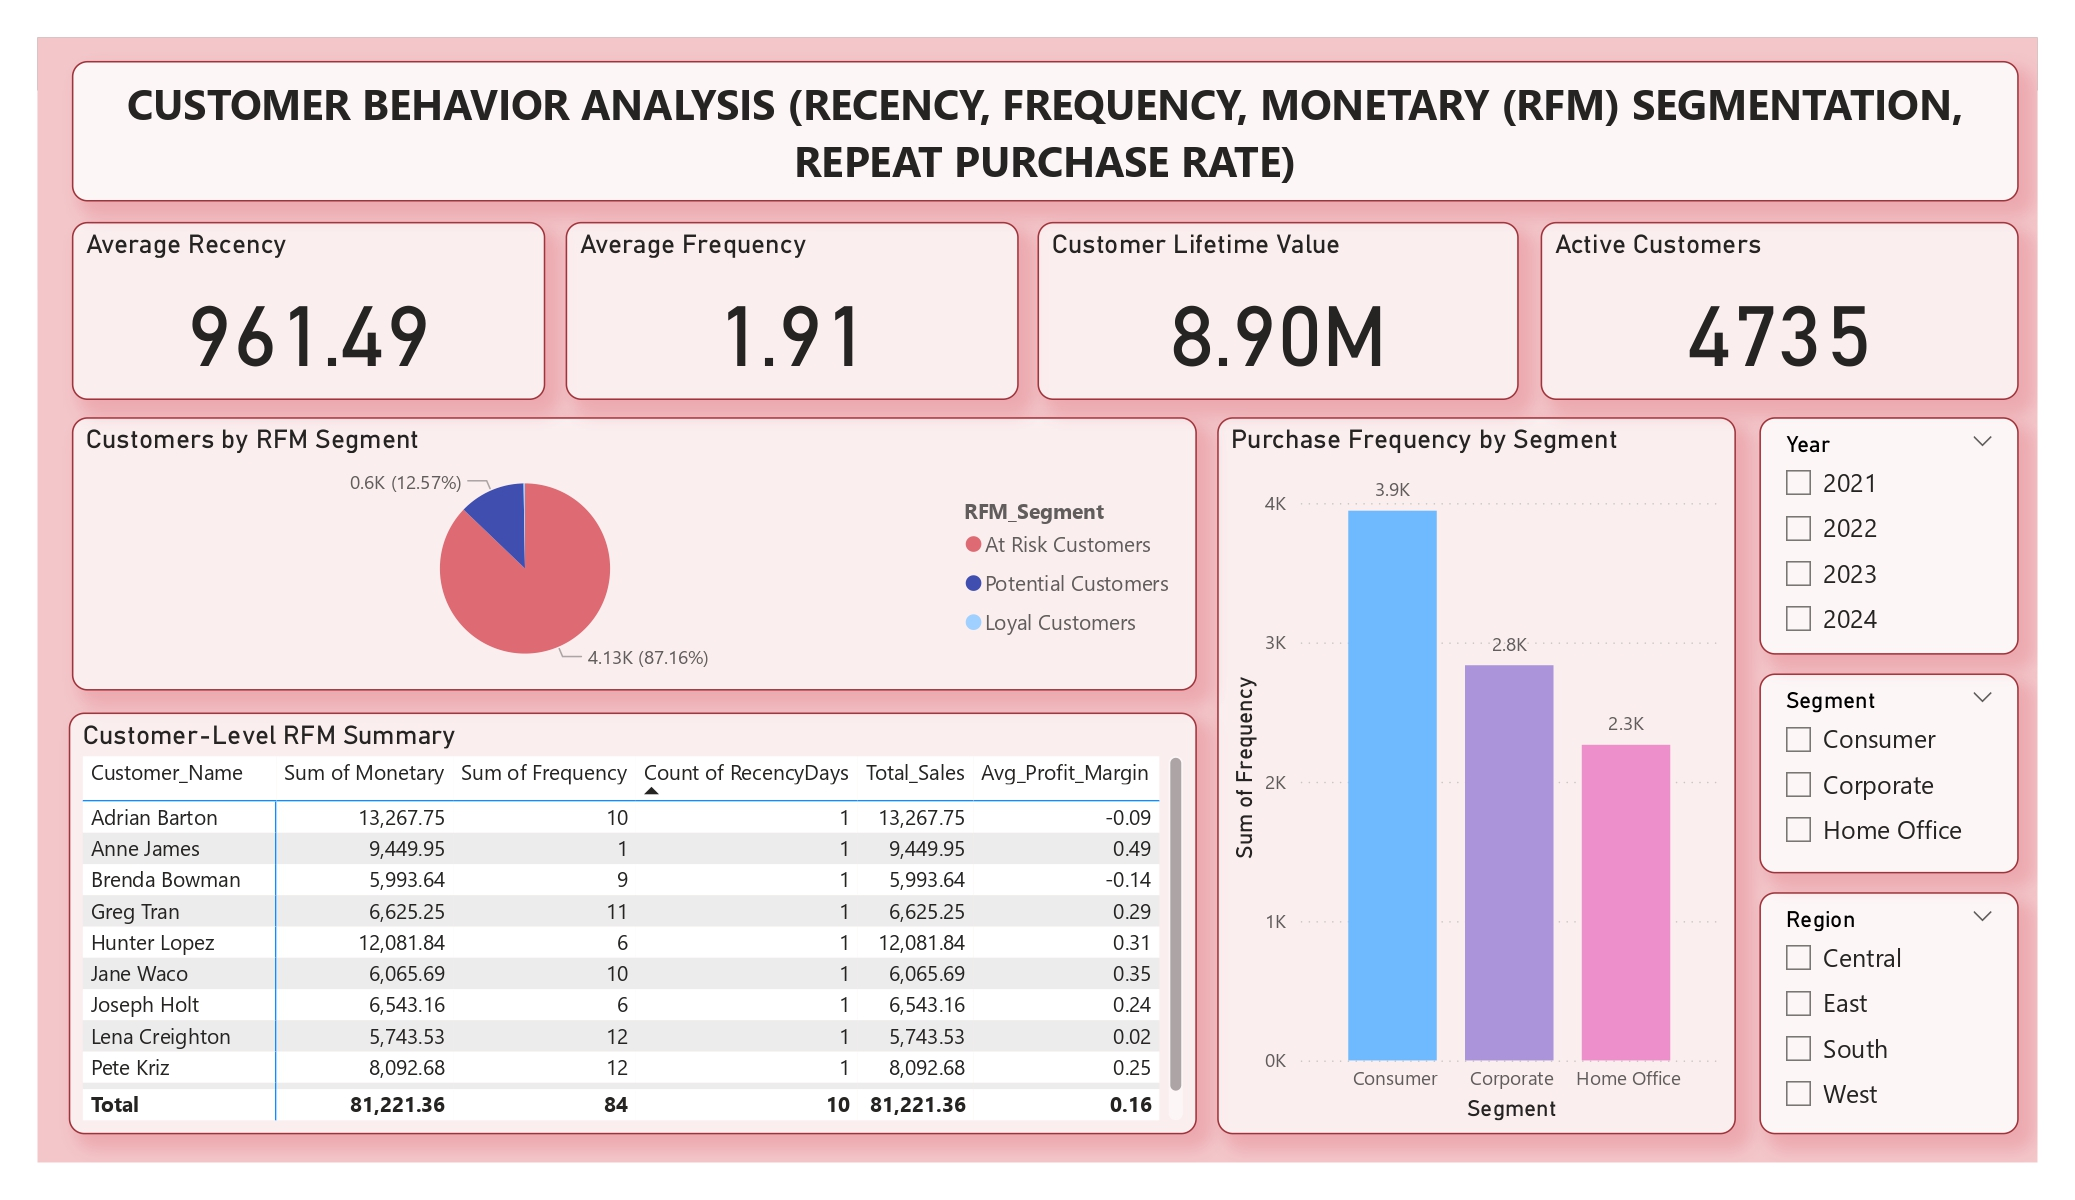

What the dashboard file says about the page in this screenshot:
{"tool":"powerbi","page":{"name":"Customer Behavior Analysis","canvas":[1280,720],"ordinal":1},"visuals":[{"type":"pivotTable","title":"Customer-Level RFM Summary","fields":{"Rows":["Customer.Customer_Name"],"Values":["Sum(Customer.Monetary)","Sum(Customer.Frequency)","CountNonNull(Customer.RecencyDays)","Sales.Total_Sales","Sales.Avg_Profit_Margin"]},"box":[20,431.7,721.7,270],"z":0},{"type":"clusteredColumnChart","title":"Purchase Frequency by Segment","fields":{"Y":["Sum(Customer.Frequency)"],"Category":["Customer.Segment"]},"box":[755,243.3,331.7,458.3],"z":1000},{"type":"pieChart","title":"Customers by RFM Segment","fields":{"Category":["Customer.RFM_Segment"],"Y":["CountNonNull(Customer.Customer_Name)"]},"box":[21.7,243.3,720,175],"z":2000},{"type":"card","title":"Average Recency","fields":{"Values":["Customer.Avg_Recency"]},"box":[21.7,118.3,303.3,113.3],"z":3000},{"type":"card","title":"Average Frequency","fields":{"Values":["Customer.Avg_Frequency"]},"box":[338.3,118.3,290,113.3],"z":4000},{"type":"card","title":"Customer Lifetime Value","fields":{"Values":["Customer.Customer_Lifetime_Value"]},"box":[640,118.3,308.3,113.3],"z":5000},{"type":"card","title":"Active Customers","fields":{"Values":["Customer.Total_Active_Customers"]},"box":[961.7,118.3,306.7,113.3],"z":6000},{"type":"slicer","fields":{"Values":["Region_Dim.Region"]},"box":[1101.7,546.7,166.7,155],"z":7000},{"type":"slicer","fields":{"Values":["Customer.Segment"]},"box":[1101.7,406.7,166.7,128.3],"z":8000},{"type":"slicer","fields":{"Values":["DateTable.Year"]},"box":[1101.7,243.3,166.7,151.7],"z":9000},{"type":"textbox","box":[21.7,15,1246.7,90],"z":10000}]}

Visuals, with their boxes on the page's 1280x720 design canvas (x1, y1, x2, y2). These are canvas units, not pixel positions in the 2075x1200 screenshot, which may show the page scaled, cropped or inside an application window:
"Customer-Level RFM Summary" pivotTable: detection(20, 432, 742, 702)
"Purchase Frequency by Segment" clusteredColumnChart: detection(755, 243, 1087, 702)
"Customers by RFM Segment" pieChart: detection(22, 243, 742, 418)
"Average Recency" card: detection(22, 118, 325, 232)
"Average Frequency" card: detection(338, 118, 628, 232)
"Customer Lifetime Value" card: detection(640, 118, 948, 232)
"Active Customers" card: detection(962, 118, 1268, 232)
slicer - Region_Dim.Region: detection(1102, 547, 1268, 702)
slicer - Customer.Segment: detection(1102, 407, 1268, 535)
slicer - DateTable.Year: detection(1102, 243, 1268, 395)
textbox: detection(22, 15, 1268, 105)
